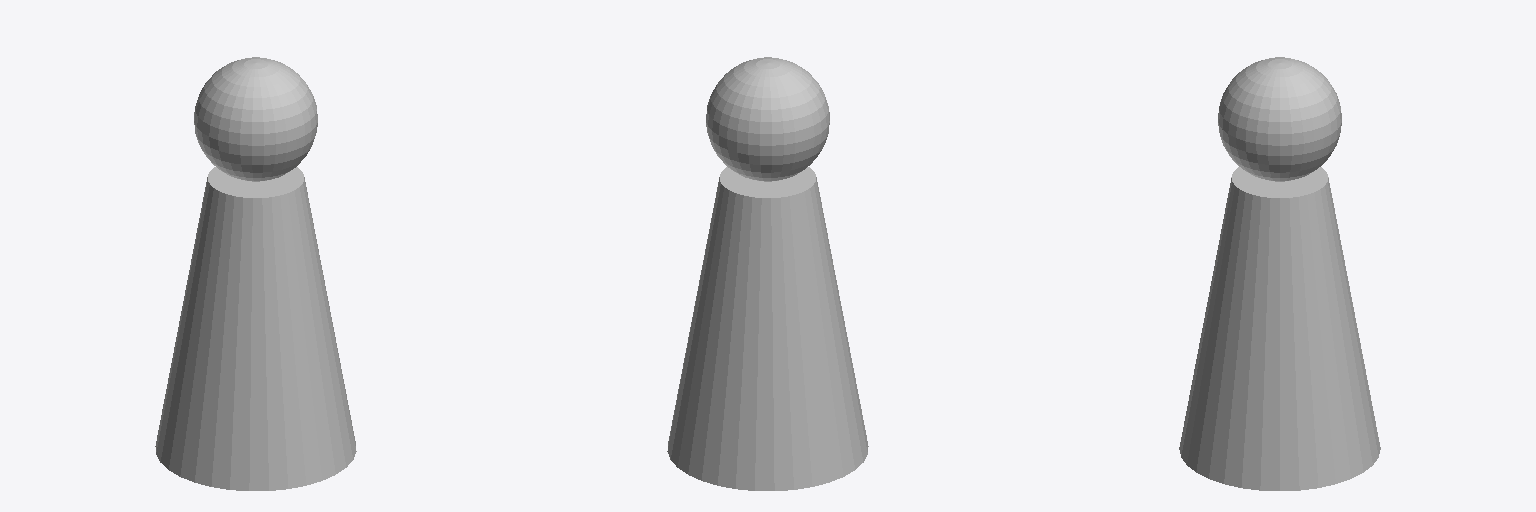
The model's file is testChorus.obj.
3 renders of one model, left to right at view 1: azimuth 30°, elevation 25°; view 2: azimuth 150°, elevation 25°; view 3: azimuth 270°, elevation 25°, orthographic.
Visible parts, largest first — view 1: 円柱, 球; view 2: 円柱, 球; view 3: 円柱, 球.
Part boxes in pixels (x1,y1,x2,y2): 円柱: (155, 167, 356, 490); 球: (194, 57, 317, 181); 円柱: (667, 167, 868, 490); 球: (706, 57, 829, 181); 円柱: (1179, 167, 1380, 490); 球: (1218, 57, 1341, 181).
Bounding box in the file's own units: 1.52 × 3.21 × 1.52.